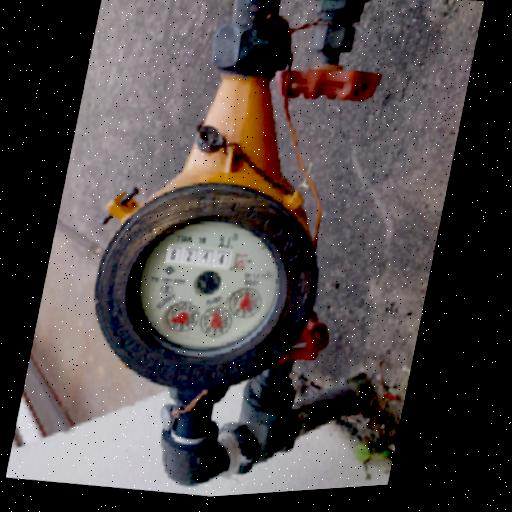2: (183, 247, 198, 264)
4: (215, 250, 230, 267), (199, 249, 213, 265), (233, 252, 246, 269)
8: (167, 246, 182, 263)
border_water_meter_number: (163, 239, 249, 277)
